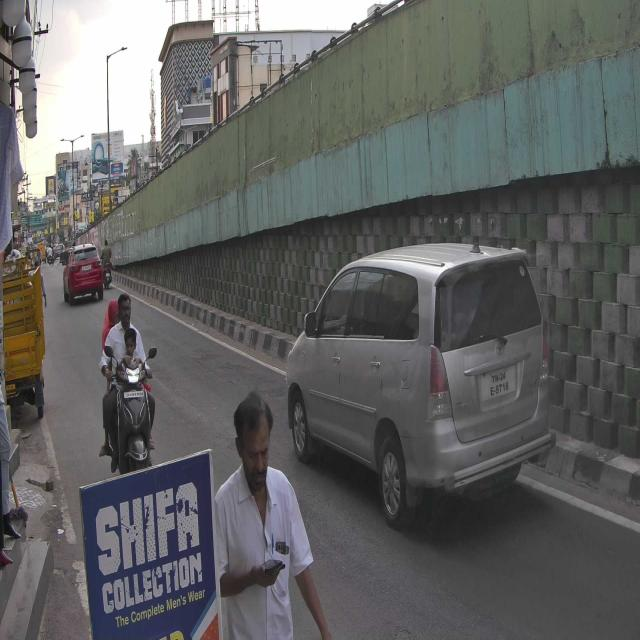triple_rider: (97, 289, 159, 476)
